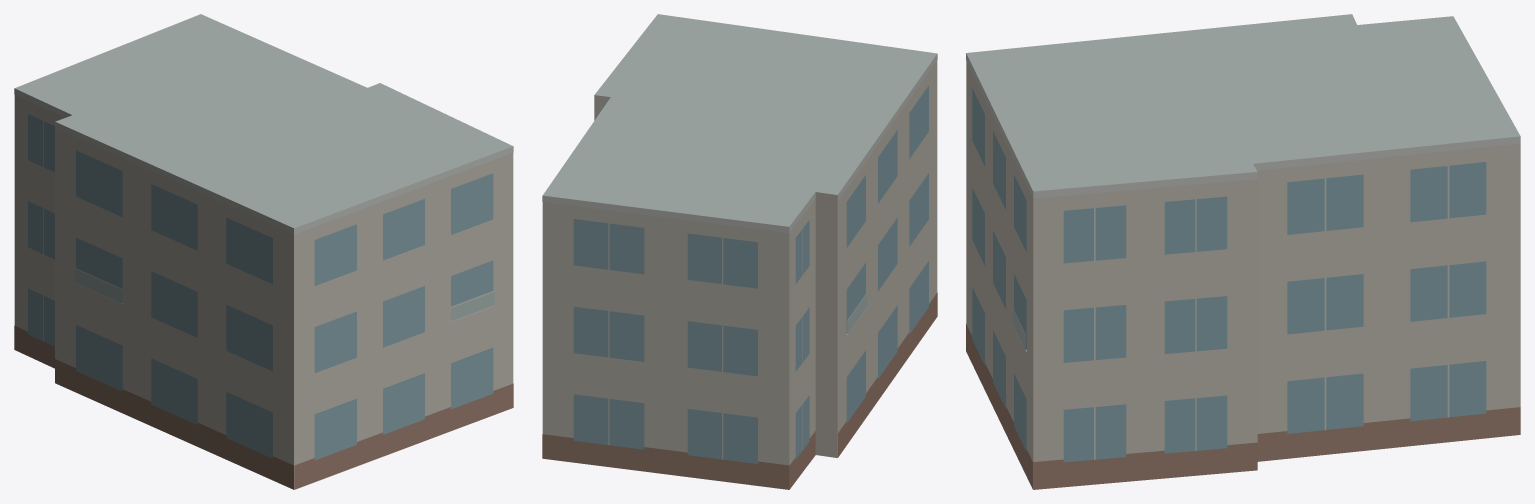
Rendered from survey-upis-32715549.glb.
3 renders of one model, left to right at view 1: azimuth 30°, elevation 25°; view 2: azimuth 150°, elevation 25°; view 3: azimuth 270°, elevation 25°, orthographic. The views are drawn at different scales.
Parts seen in each view (by area): view 1: survey-upis-32715549.tmp; view 2: survey-upis-32715549.tmp; view 3: survey-upis-32715549.tmp.
Part boxes in pixels (x1,y1,x2,y2): survey-upis-32715549.tmp: (14,14,513,489); survey-upis-32715549.tmp: (542,14,937,489); survey-upis-32715549.tmp: (966,14,1520,489).
Size of the model in its own units: 13.01 by 10.2 by 17.19.
